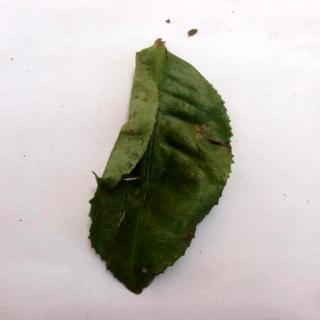Algal Leaf: (93, 40, 235, 296)
